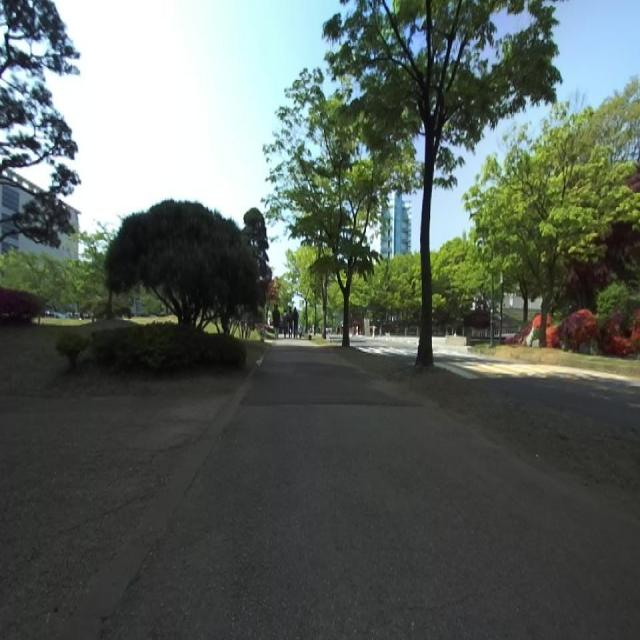sidewalk: (104, 343, 640, 638)
